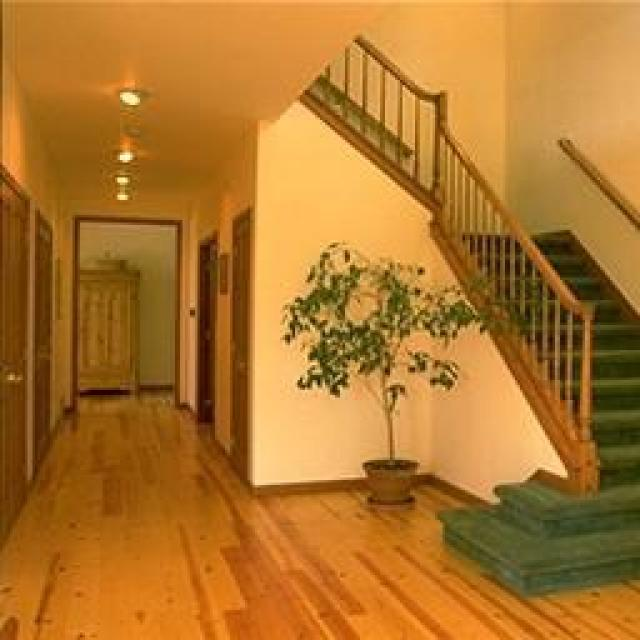plant: (278, 238, 518, 502)
pots: (360, 455, 418, 503)
rugs: (435, 225, 637, 600)
shelf: (75, 265, 140, 395)
shelves: (295, 32, 637, 600)
